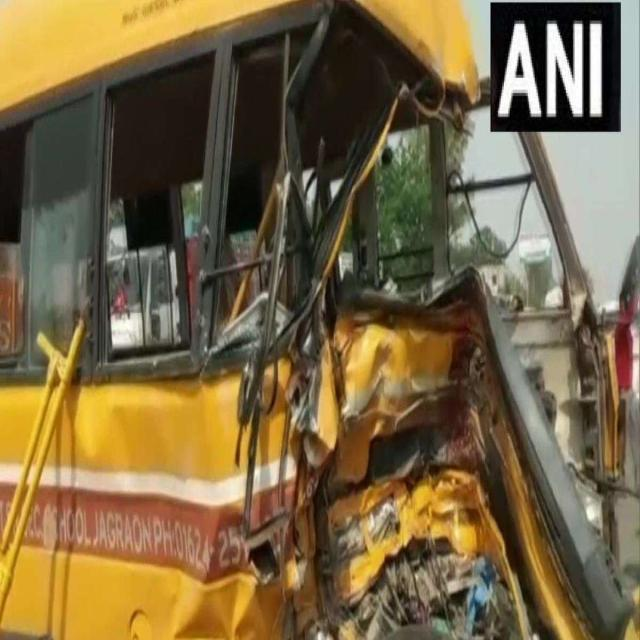accident: (0, 0, 640, 638)
